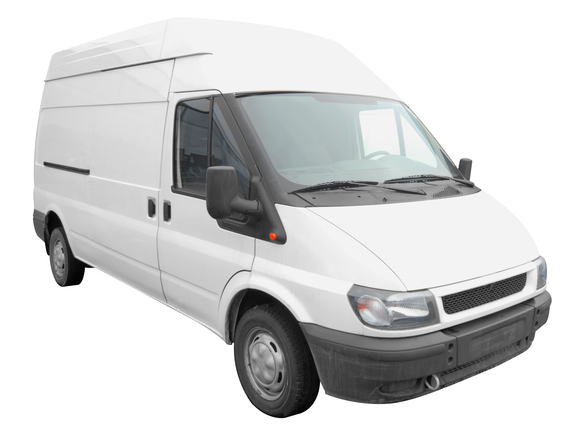van: (32, 18, 552, 418)
